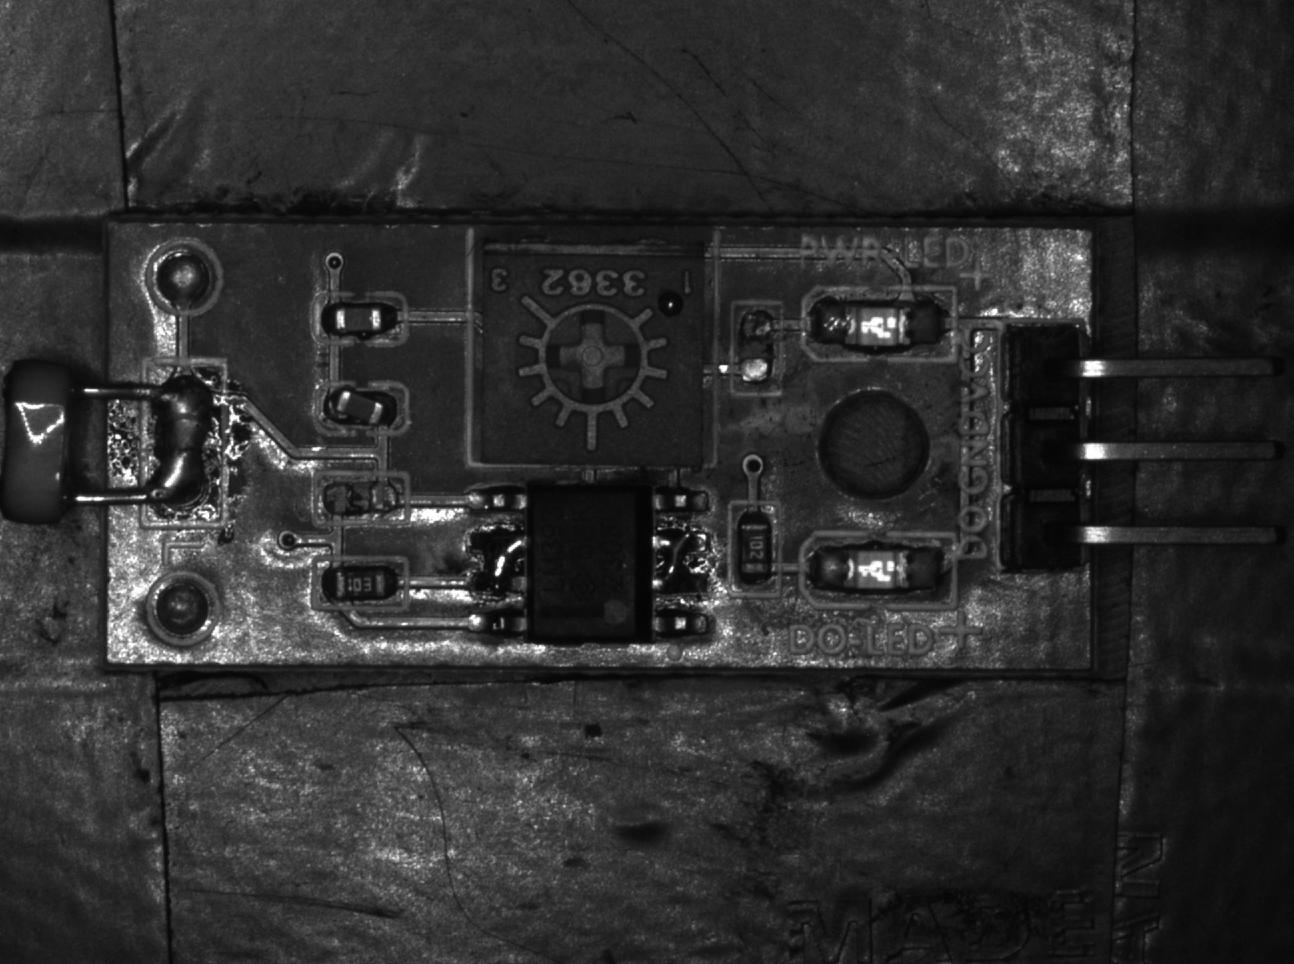bridge: (145, 356, 231, 534), (645, 520, 713, 598), (458, 521, 521, 602)
lifted: (313, 380, 410, 437)
miss: (313, 471, 411, 526), (732, 303, 782, 396)
ok: (309, 292, 409, 347), (312, 556, 409, 610), (728, 502, 779, 597)
